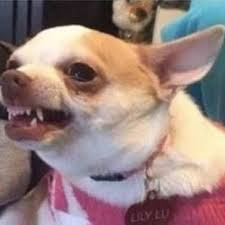chihuahua: (1, 22, 225, 201)
